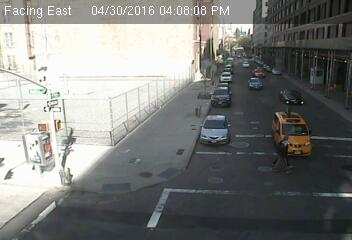neg: (189, 71, 223, 116), (43, 122, 75, 166)
pos: (272, 132, 300, 170)
